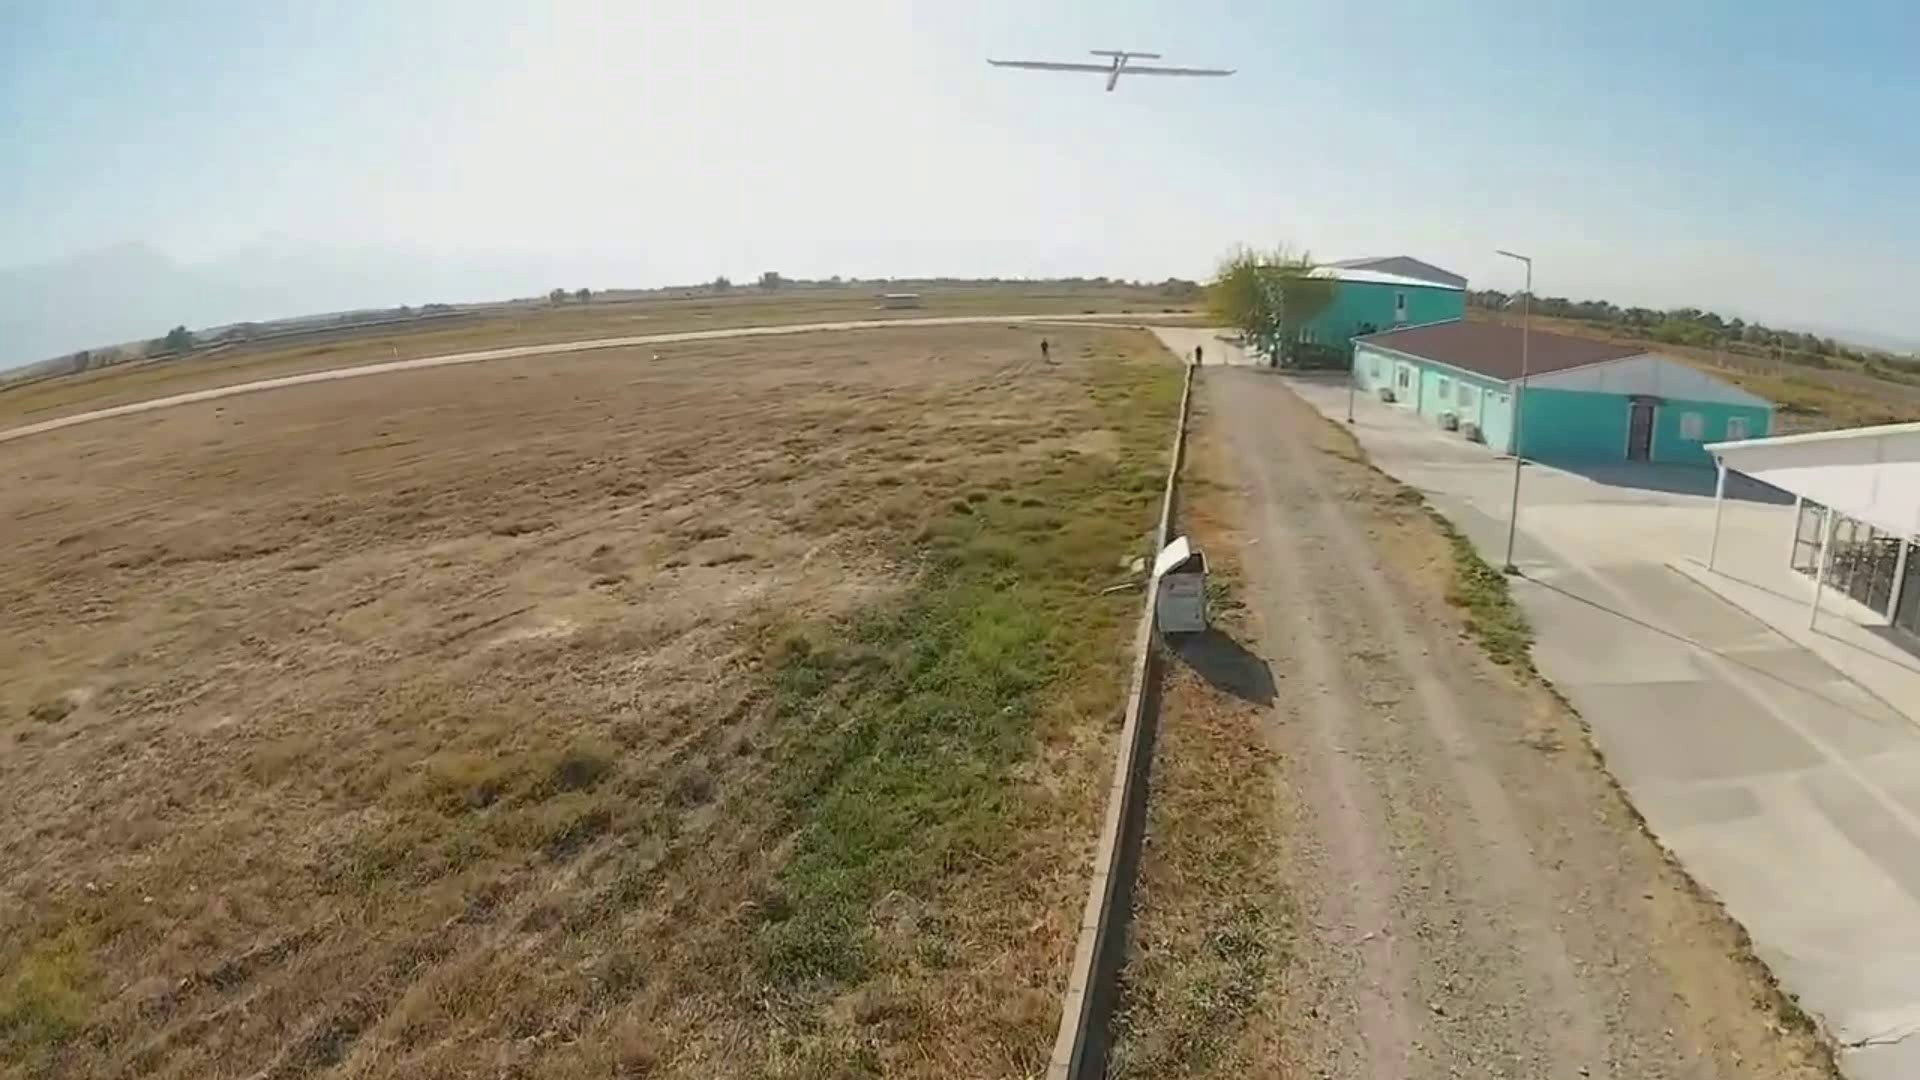airplane: (984, 47, 1240, 90)
